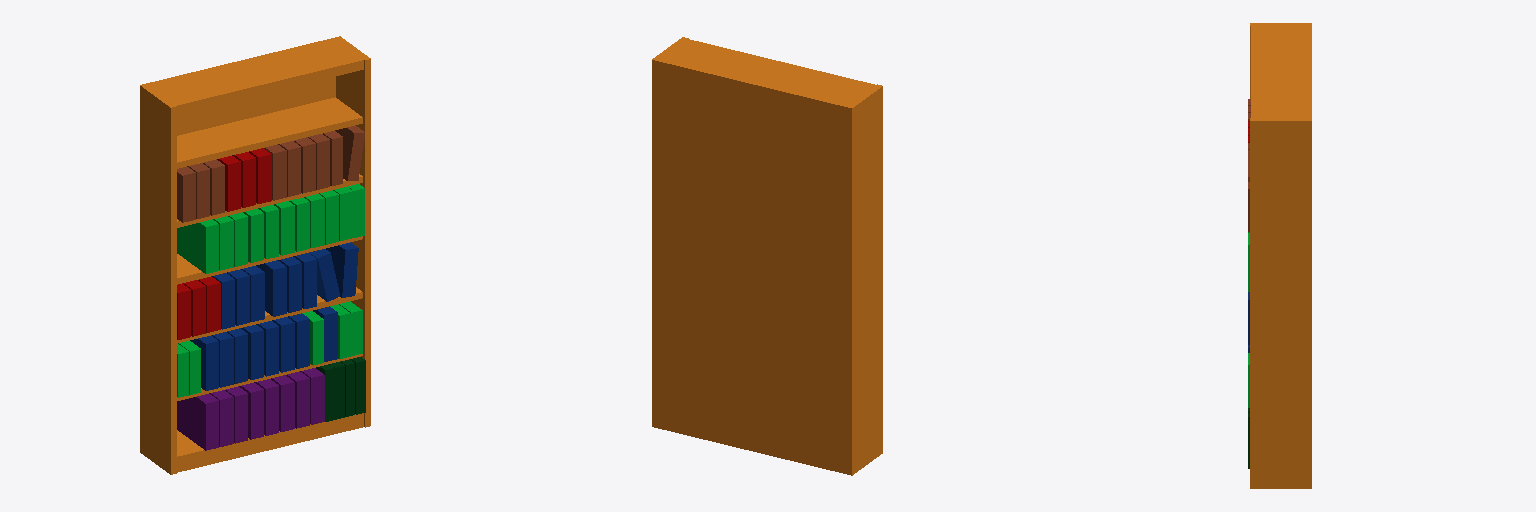
3 renders of one model, left to right at view 1: azimuth 30°, elevation 25°; view 2: azimuth 150°, elevation 25°; view 3: azimuth 270°, elevation 25°, orthographic.
Parts seen in each view (by area): view 1: BookCase[number redacted]_01:Plane01, BookCase[number redacted]_01:Object02, BookCase[number redacted]_01:Object03, BookCase[number redacted]_01:Object04, BookCase[number redacted]_01:Box03, pCube1, pCube37, pCube29, pCube33, pCube59, pCube13, pCube48 (+28 smaller); view 2: BookCase[number redacted]_01:Box03, BookCase[number redacted]_01:Plane01, BookCase[number redacted]_01:Object02; view 3: BookCase[number redacted]_01:Plane01, BookCase[number redacted]_01:Object02, BookCase[number redacted]_01:Box03.
Part boxes in pixels (bbox=[...]): BookCase[number redacted]_01:Plane01: bbox=[141, 37, 370, 474]; BookCase[number redacted]_01:Object02: bbox=[148, 39, 363, 472]; BookCase[number redacted]_01:Object03: bbox=[177, 97, 362, 388]; BookCase[number redacted]_01:Object04: bbox=[177, 117, 362, 400]; BookCase[number redacted]_01:Box03: bbox=[140, 36, 340, 452]; pCube1: bbox=[177, 394, 218, 450]; pCube37: bbox=[177, 219, 218, 273]; pCube29: bbox=[256, 260, 286, 316]; pCube33: bbox=[326, 242, 358, 297]; pCube59: bbox=[335, 125, 364, 180]; pCube13: bbox=[190, 335, 218, 390]; pCube48: bbox=[177, 167, 195, 222]; BookCase[number redacted]_01:Box03: bbox=[652, 59, 853, 475]; BookCase[number redacted]_01:Plane01: bbox=[653, 37, 882, 473]; BookCase[number redacted]_01:Object02: bbox=[660, 39, 875, 105]; BookCase[number redacted]_01:Plane01: bbox=[1250, 23, 1308, 488]; BookCase[number redacted]_01:Object02: bbox=[1251, 26, 1308, 117]; BookCase[number redacted]_01:Box03: bbox=[1309, 23, 1311, 488].
Bounding box in the file's own units: 2.08 × 3.65 × 0.5768.
Materials: 7 (7 with a texture image).